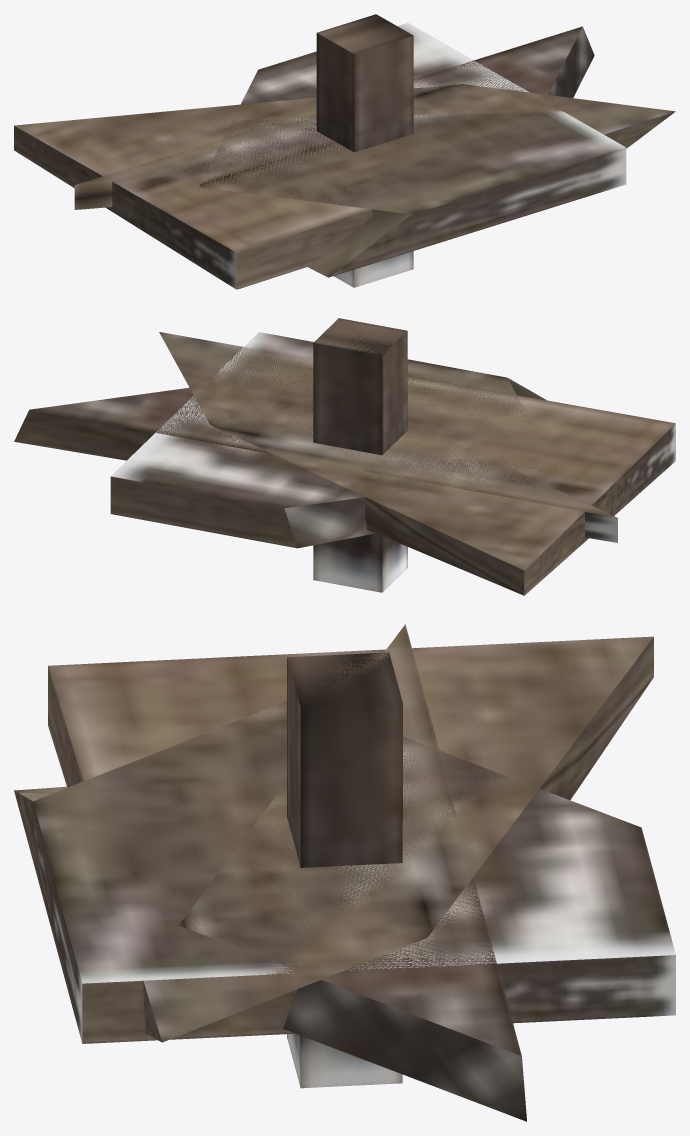
File: chair01.obj
3 views of the same model, one above another, from view 1: azimuth 30°, elevation 25°; view 2: azimuth 150°, elevation 25°; view 3: azimuth 270°, elevation 25° (orthographic). The views are drawn at different scales.
Parts seen in each view (by area): view 1: 4, 3, 5, 2, 6, 0; view 2: 3, 4, 5, 1, 2, 6, 0; view 3: 4, 3, 5, 1, 6, 2, 0.
Boxes of the visible parts, <box> form: 4: <box>199,23,626,277</box>; 3: <box>14,84,675,289</box>; 5: <box>74,26,594,209</box>; 2: <box>316,30,413,287</box>; 6: <box>317,14,412,53</box>; 0: <box>318,16,412,53</box>; 3: <box>159,332,675,595</box>; 4: <box>110,332,557,548</box>; 5: <box>14,373,617,542</box>; 1: <box>313,318,382,592</box>; 2: <box>316,331,407,592</box>; 6: <box>313,318,407,362</box>; 0: <box>314,318,403,354</box>; 4: <box>14,701,675,1043</box>; 3: <box>48,636,653,1042</box>; 5: <box>179,624,526,1121</box>; 1: <box>299,697,402,1088</box>; 6: <box>287,652,402,707</box>; 2: <box>287,657,367,1087</box>; 0: <box>291,652,390,704</box>.
Bounding box in the file's own units: 24.2 × 9.69 × 15.29.
